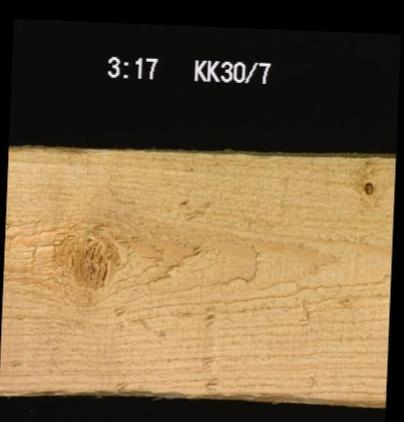dry_knot: (359, 178, 375, 197)
small_knot: (340, 288, 354, 306)
sound_knot: (58, 221, 122, 304)
wave: (9, 135, 108, 160)
